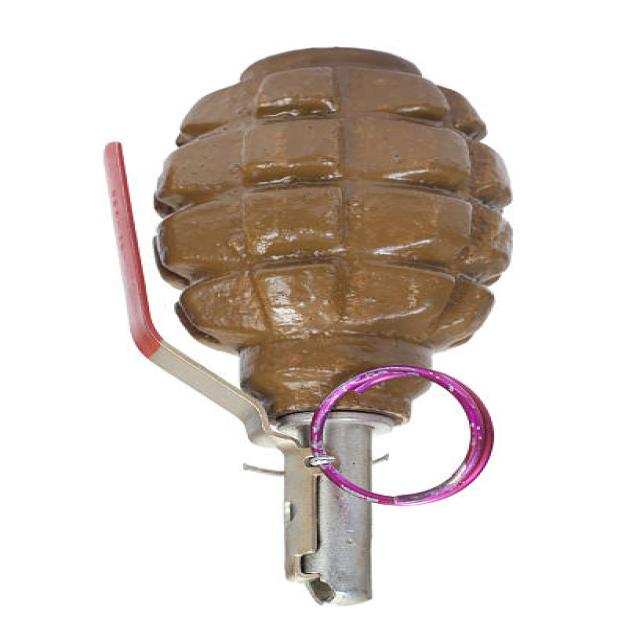grenade: (100, 41, 529, 614)
